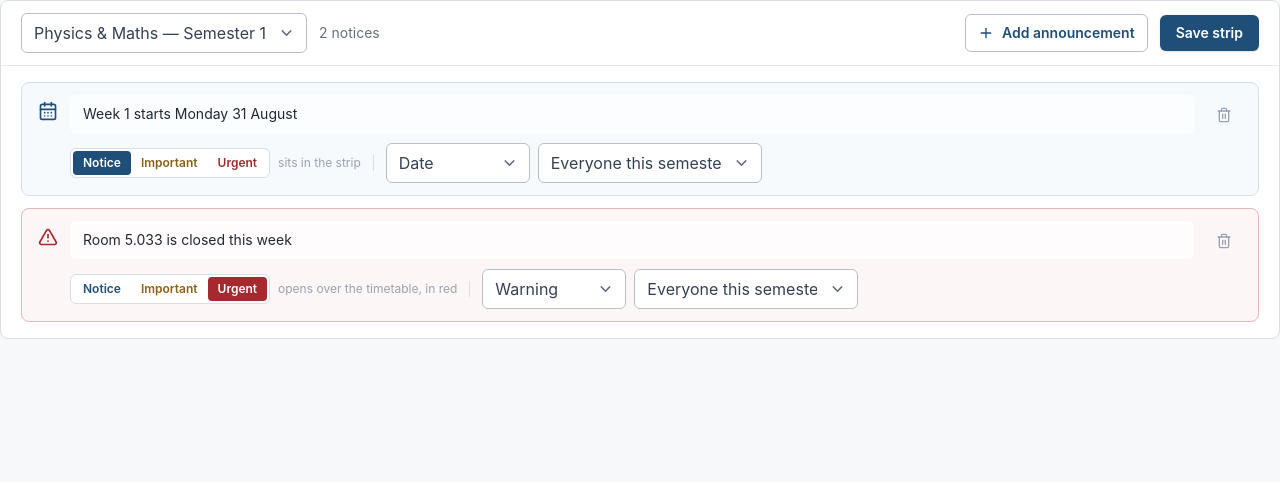
Test: AnnouncementEditor › adds a line and removes one
This screenshot has width=1280, height=482.
Expected: the number of fields named "Announcement" is 2, left=70, top=95, right=1194, bottom=133; left=70, top=221, right=1194, bottom=259
What coordinates should you click on to do the following:
click the button "Add announcement"
I would click on:
 (1056, 33)
Its box is left=965, top=14, right=1148, bottom=52.
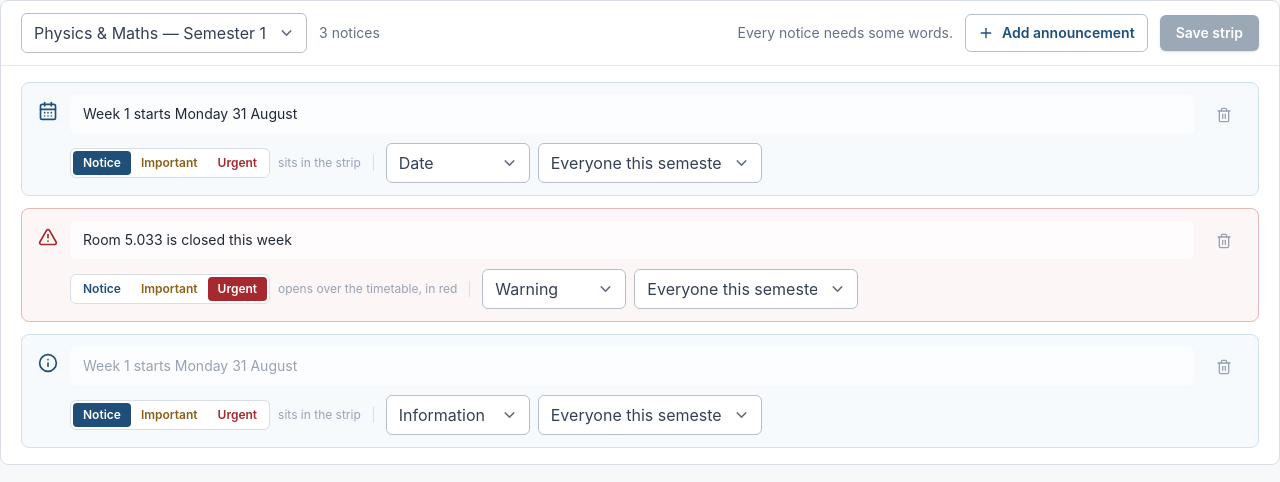
Expected: the number of fields named "Announcement" is 3, left=70, top=95, right=1194, bottom=133; left=70, top=221, right=1194, bottom=259; left=70, top=347, right=1194, bottom=385
What coordinates should you click on to do the following:
click the button named "Remove announcement Week 1"
I would click on:
 (1224, 115)
Its box is left=1206, top=97, right=1242, bottom=133.
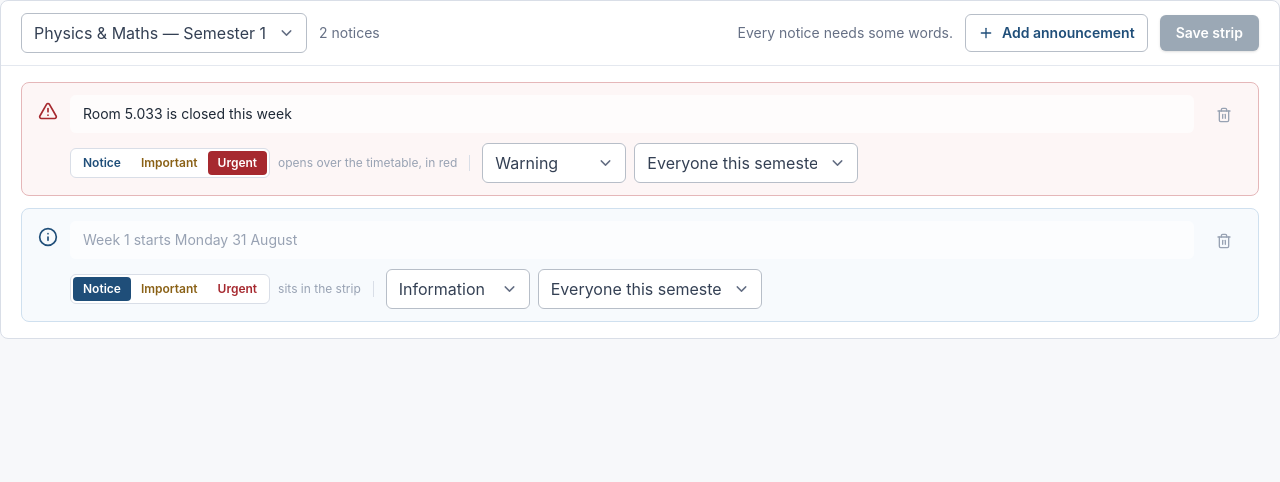
Expected: the number of fields named "Announcement" is 2, left=70, top=95, right=1194, bottom=133; left=70, top=221, right=1194, bottom=259
